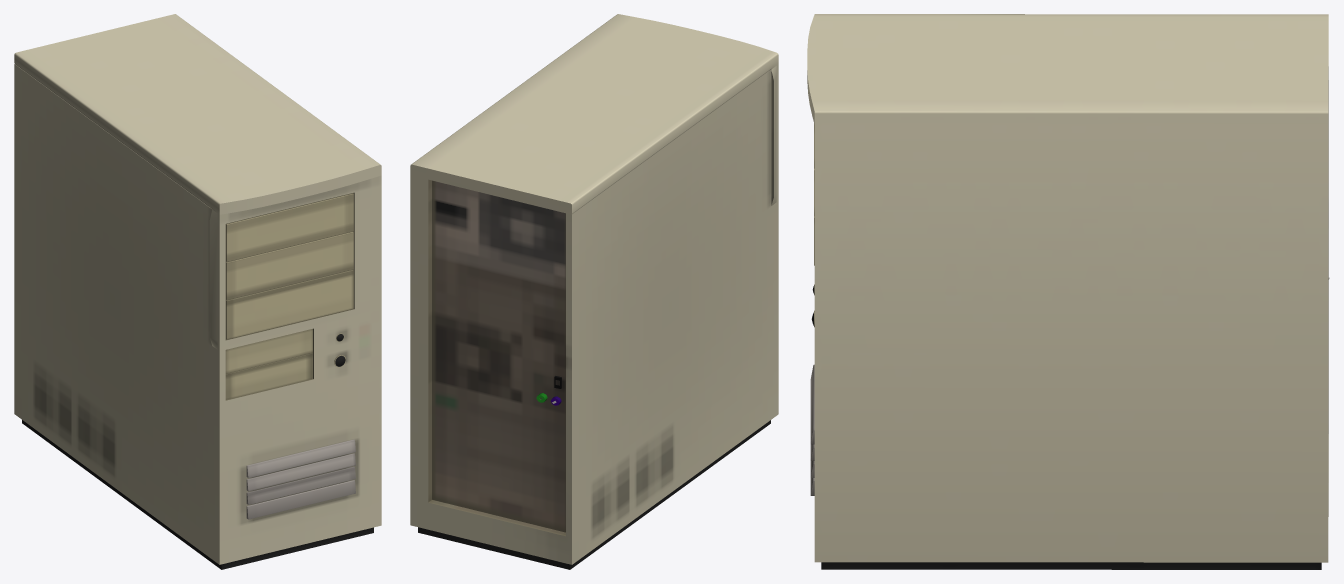
Rendered from computer.fbx.
3 renders of one model, left to right at view 1: azimuth 30°, elevation 25°; view 2: azimuth 150°, elevation 25°; view 3: azimuth 270°, elevation 25°, orthographic. The views are drawn at different scales.
Visible parts, largest first — view 1: Computer; view 2: Computer; view 3: Computer.
Part boxes in pixels (x1=…): Computer: x1=14, y1=14, x2=381, y2=569; Computer: x1=410, y1=14, x2=778, y2=569; Computer: x1=807, y1=14, x2=1329, y2=569.
Bounding box in the file's own units: 21.39 × 45.72 × 46.99.
